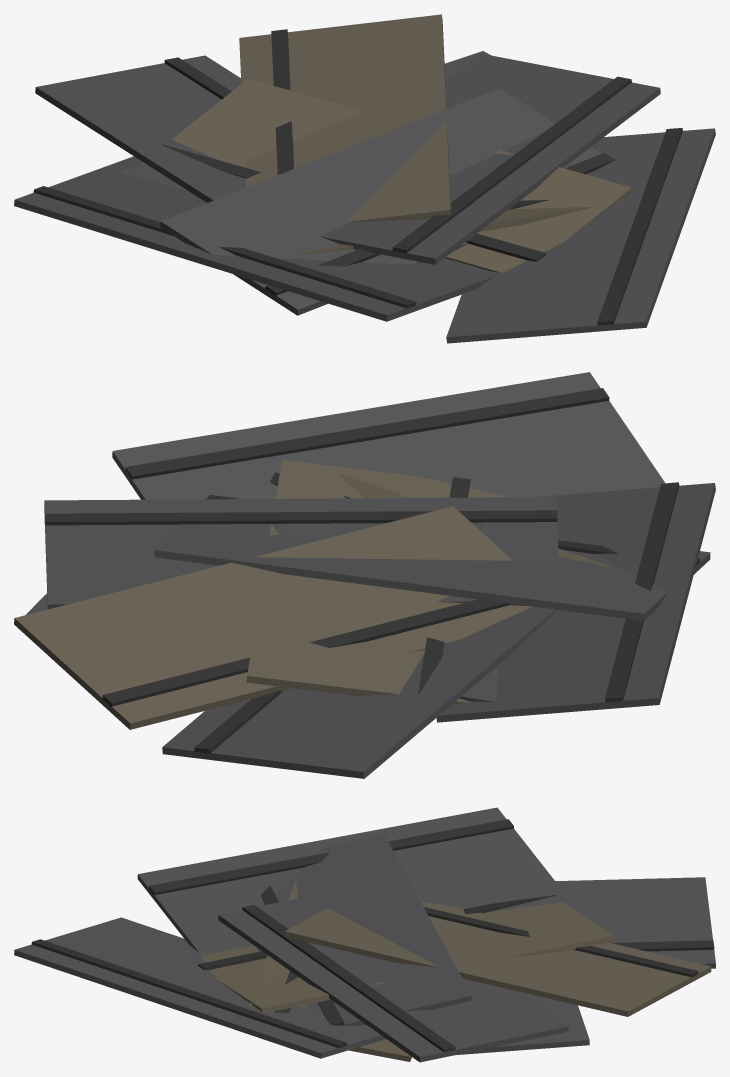
File: storm_debris_shingles_a.glb
3 renders of one model, top to bottom at view 1: azimuth 30°, elevation 25°; view 2: azimuth 150°, elevation 25°; view 3: azimuth 270°, elevation 25°, orthographic. The views are drawn at different scales.
Visible parts, largest first — view 1: body; view 2: body; view 3: body.
Part boxes in pixels (<box>): body: <box>14,14,715,343</box>; body: <box>14,372,715,778</box>; body: <box>14,807,715,1062</box>.
Size of the model in its own units: 0.5102 by 0.0374 by 0.6078.
